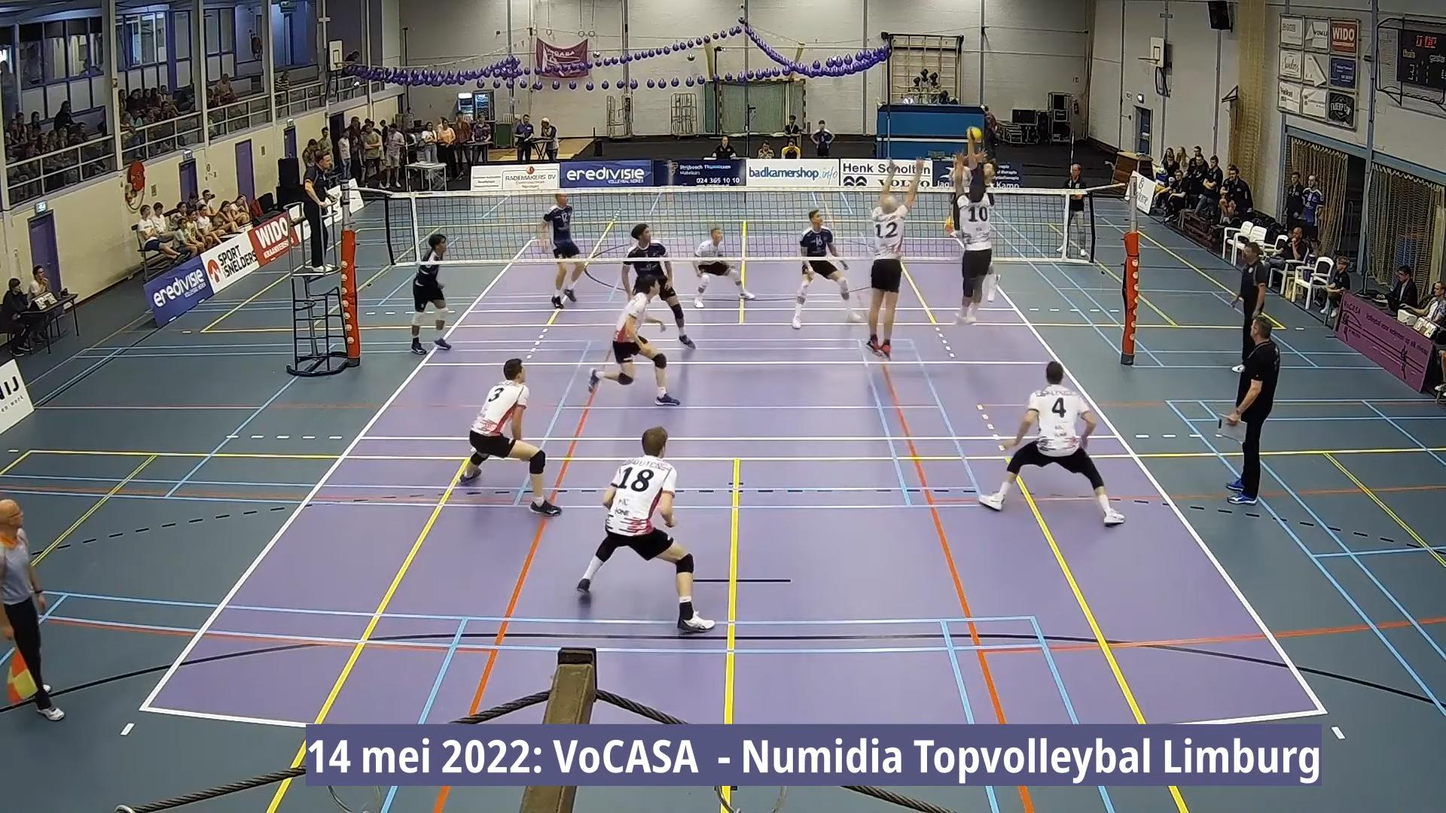muro: (849, 169, 923, 361), (950, 166, 1000, 326)
